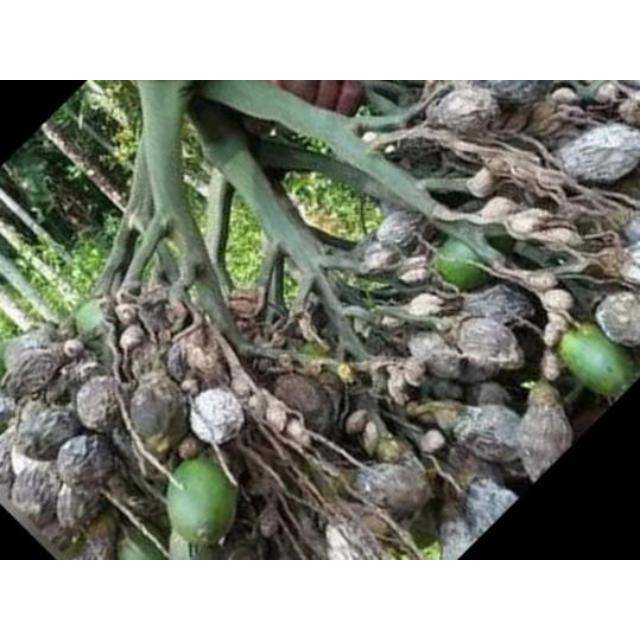damaged: (439, 478, 518, 558), (552, 125, 640, 181), (354, 460, 431, 520), (452, 404, 524, 468), (129, 376, 185, 450), (452, 318, 526, 372), (56, 435, 114, 497), (427, 89, 497, 138), (15, 404, 76, 460), (274, 374, 332, 431), (462, 284, 538, 326), (188, 389, 244, 445), (442, 440, 500, 494), (5, 349, 64, 401), (74, 376, 126, 434), (11, 463, 61, 523), (404, 331, 460, 381), (56, 478, 106, 532), (594, 292, 640, 348), (360, 244, 404, 276), (312, 366, 344, 404), (477, 197, 519, 223), (165, 342, 192, 382), (407, 293, 448, 319), (472, 382, 512, 406), (1, 434, 18, 490), (542, 288, 574, 312)
